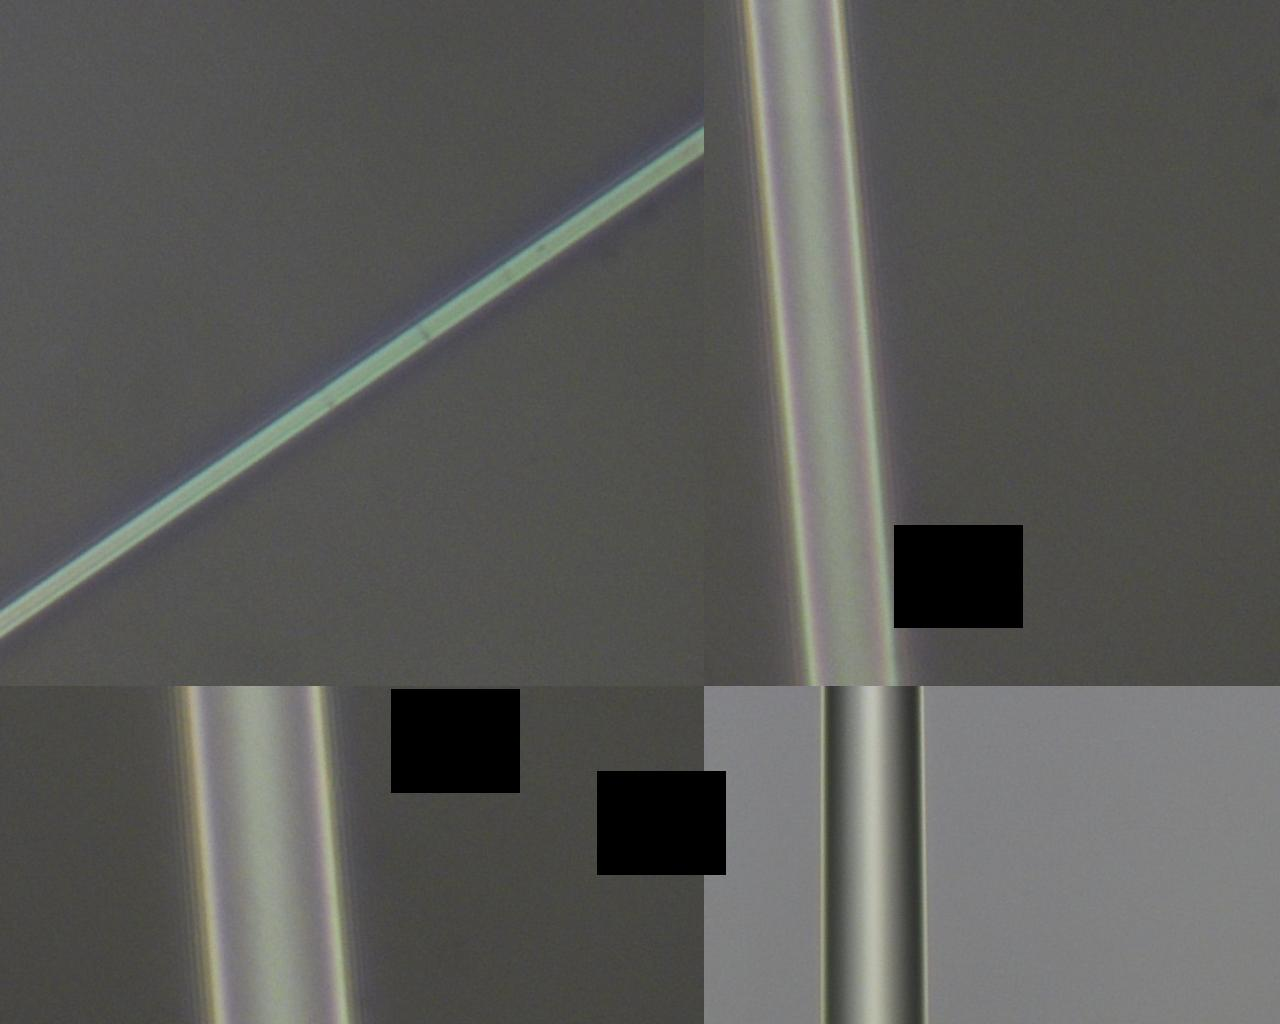fiber: (963, 0, 1131, 696), (0, 696, 287, 1024), (849, 696, 910, 1024)
